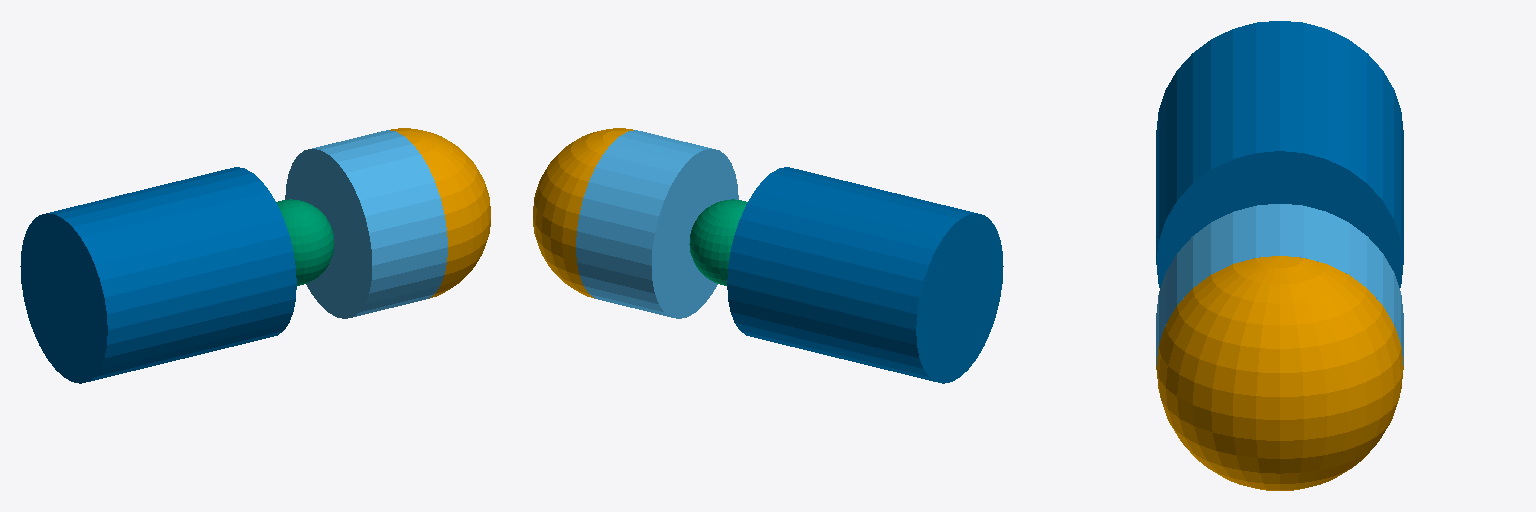
robot.urdf — snake/snake_1_segments:
<?xml version="1.0"?>
<robot name="snake/snake_1_segments">
<link name="eye">
  <inertial>
   <mass value="1"/>
   <inertia ixx="0.00576" ixy="0" ixz="0" iyy="0.00576" iyz="0" izz="0.00576"/>
  </inertial>
  <collision>
    <origin rpy="0 0 0" xyz="0 0 0"/>
    <geometry>
      <sphere radius="0.12"/>
    </geometry>
  </collision>
  <visual>
    <origin rpy="0 0 0" xyz="0 0 0"/>
    <geometry>
      <sphere radius="0.12"/>
    </geometry>
  </visual>
</link>

 <link name="body0">
  <inertial>
    <mass value="1"/>
    <inertia ixx="0.0048" ixy="0" ixz="0" iyy="0.0048" iyz="0" izz="0.0036"/>
  </inertial>
  <visual>
    <origin rpy="0 1.57 0" xyz="0 0 0"/>
    <geometry>
      <cylinder length="0.12" radius="0.12"/>
    </geometry>
  </visual>
  <collision>
    <origin rpy="0 1.57 0" xyz="0 0 0"/>
    <geometry>
      <cylinder length="0.12" radius="0.12"/>
    </geometry>
  </collision>
 </link>

<joint name="joint_fixed_eye_body0" type="fixed">
  <origin rpy="0 0 0" xyz="-0.06 0 0"/>
  <parent link="eye"/>
  <child link="body0"/>
</joint>

<link name="body1_joint_link">
  <inertial>
   <mass value="1"/>
   <inertia ixx="0.00144" ixy="0" ixz="0" iyy="0.00144" iyz="0" izz="0.00144"/>
  </inertial>
  <collision>
    <origin rpy="0 0 0" xyz="0 0 0"/>
    <geometry>
      <sphere radius="0.06"/>
    </geometry>
  </collision>
  <visual>
    <origin rpy="0 0 0" xyz="0 0 0"/>
    <geometry>
      <sphere radius="0.06"/>
    </geometry>
  </visual>
</link>

<joint name="joint_fixed_body0_body1_joint_link" type="fixed">
  <origin rpy="0 0 0" xyz="-0.12001 0 0"/>
  <parent link="body0"/>
  <child link="body1_joint_link"/>
</joint>

<joint name="joint_spherical_body1_joint_link_body1_Z" type="revolute">
  <origin rpy="0 0 0" xyz="0 0 0"/>
  <parent link="body1_joint_link"/>
  <child link="body1_joint_link_spherical_joint_link"/>
  <axis xyz="0 0 1"/>
  <dynamics damping="0.01" friction="0.5"/>
  <limit lower="-0.785398163397" upper="0.785398163397" effort="0.01" velocity="100"/>
</joint>

<link name="body1_joint_link_spherical_joint_link" physical="0">
  <inertial>
   <mass value="1"/>
   <inertia ixx="4e-07" ixy="0" ixz="0" iyy="4e-07" iyz="0" izz="4e-07"/>
  </inertial>
  <collision>
    <origin rpy="0 0 0" xyz="0 0 0"/>
    <geometry>
      <sphere radius="0.001"/>
    </geometry>
  </collision>
  <visual>
    <origin rpy="0 0 0" xyz="0 0 0"/>
    <geometry>
      <sphere radius="0.001"/>
    </geometry>
  </visual>
</link>

<joint name="joint_spherical_body1_joint_link_body1_Y" type="revolute">
  <origin rpy="0 0 0" xyz="0 0 0"/>
  <parent link="body1_joint_link_spherical_joint_link"/>
  <child link="body1"/>
  <axis xyz="0 1 0"/>
  <dynamics damping="0.01" friction="0.5"/>
  <limit lower="-0.785398163397" upper="0.785398163397" effort="0.01" velocity="100"/>
</joint>

 <link name="body1">
  <inertial>
    <mass value="1"/>
    <inertia ixx="0.0111" ixy="0" ixz="0" iyy="0.0111" iyz="0" izz="0.0036"/>
  </inertial>
  <visual>
    <origin rpy="0 1.57 0" xyz="-0.21001 0 0"/>
    <geometry>
      <cylinder length="0.3" radius="0.12"/>
    </geometry>
  </visual>
  <collision>
    <origin rpy="0 1.57 0" xyz="-0.21001 0 0"/>
    <geometry>
      <cylinder length="0.3" radius="0.12"/>
    </geometry>
  </collision>
 </link>

  <klampt package_root="../../.." default_acc_max="4" >
  </klampt>
</robot>

--- Facts derived from the render (not from the file) ---
The picture shows the robot from 3 angles, left to right: view 1: azimuth 30°, elevation 25°; view 2: azimuth 150°, elevation 25°; view 3: azimuth 270°, elevation 25°; orthographic projection.
Robot: snake/snake_1_segments — 5 links, 4 joints (2 revolute, 2 fixed); root link eye; default pose: every joint at zero.
Links seen in each view (by area): view 1: body1, body0, eye, body1_joint_link; view 2: body1, body0, eye, body1_joint_link; view 3: eye, body1, body0.
Boxes of the visible links, x1,y1,x2,y2 form: body1: [20, 167, 296, 383]; body0: [285, 130, 447, 318]; eye: [390, 128, 490, 298]; body1_joint_link: [276, 199, 334, 285]; body1: [727, 167, 1003, 383]; body0: [576, 130, 738, 318]; eye: [533, 128, 633, 298]; body1_joint_link: [689, 199, 747, 285]; eye: [1156, 256, 1403, 490]; body1: [1156, 21, 1403, 287]; body0: [1156, 204, 1403, 365].
Bounding box of the posed robot: 0.6601 × 0.24 × 0.2402 m (x, y, z).
Geometry: primitives only (box / cylinder / sphere), no mesh files.